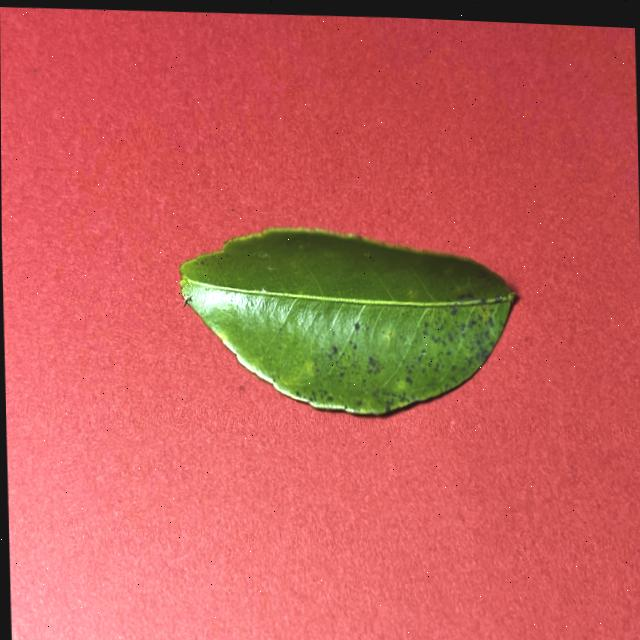sooty_mold: (179, 228, 513, 413)
